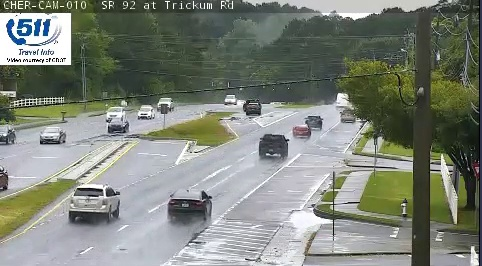car: (70, 185, 120, 215), (168, 189, 211, 213), (259, 134, 287, 156), (292, 124, 310, 138), (306, 115, 322, 130)
